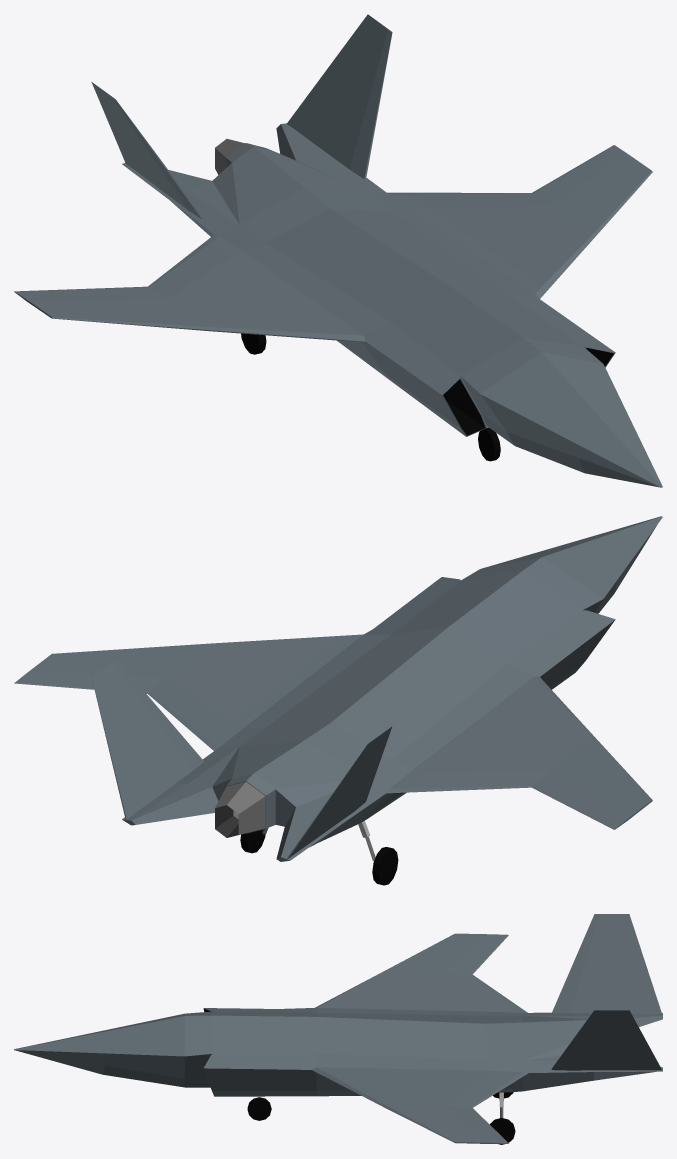
3 renders of one model, top to bottom at view 1: azimuth 30°, elevation 25°; view 2: azimuth 150°, elevation 25°; view 3: azimuth 270°, elevation 25°, orthographic. The views are drawn at different scales.
Visible parts, largest first — view 1: body.004, L_rudder.004, R_Rudder.004, R_ailerone.004, L_ailerone.004; view 2: body.004, L_rudder.004, R_Rudder.004, R_ailerone.004, L_ailerone.004, Landing gear_RR.004; view 3: body.004, R_Rudder.004, L_rudder.004, L_ailerone.004, R_ailerone.004, Landing gear_RL.004, Landing gear_F.004.
Part boxes in pixels (<box>): body.004: <box>14,123,662,487</box>; L_rudder.004: <box>287,14,392,179</box>; R_Rudder.004: <box>91,82,204,219</box>; R_ailerone.004: <box>148,241,230,298</box>; L_ailerone.004: <box>404,192,550,207</box>; body.004: <box>14,516,662,861</box>; L_rudder.004: <box>91,658,203,819</box>; R_Rudder.004: <box>287,726,392,858</box>; R_ailerone.004: <box>404,770,550,792</box>; L_ailerone.004: <box>148,676,230,743</box>; Landing gear_RR.004: <box>358,820,398,885</box>; body.004: <box>14,933,662,1143</box>; R_Rudder.004: <box>552,914,661,1013</box>; L_rudder.004: <box>551,1010,661,1070</box>; L_ailerone.004: <box>444,1075,521,1107</box>; R_ailerone.004: <box>444,973,521,1008</box>; Landing gear_RL.004: <box>490,1092,515,1144</box>; Landing gear_F.004: <box>247,1097,271,1120</box>.
Bounding box in the file's own units: 674 × 239 × 886.
